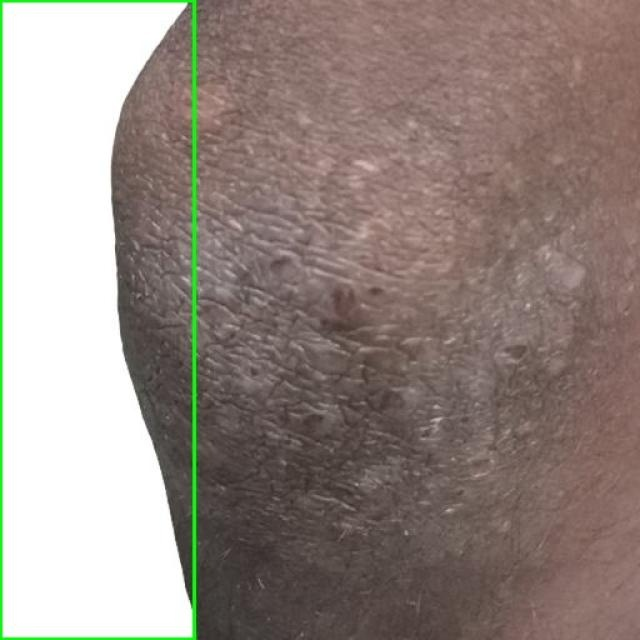Eczema: (0, 0, 194, 639)
